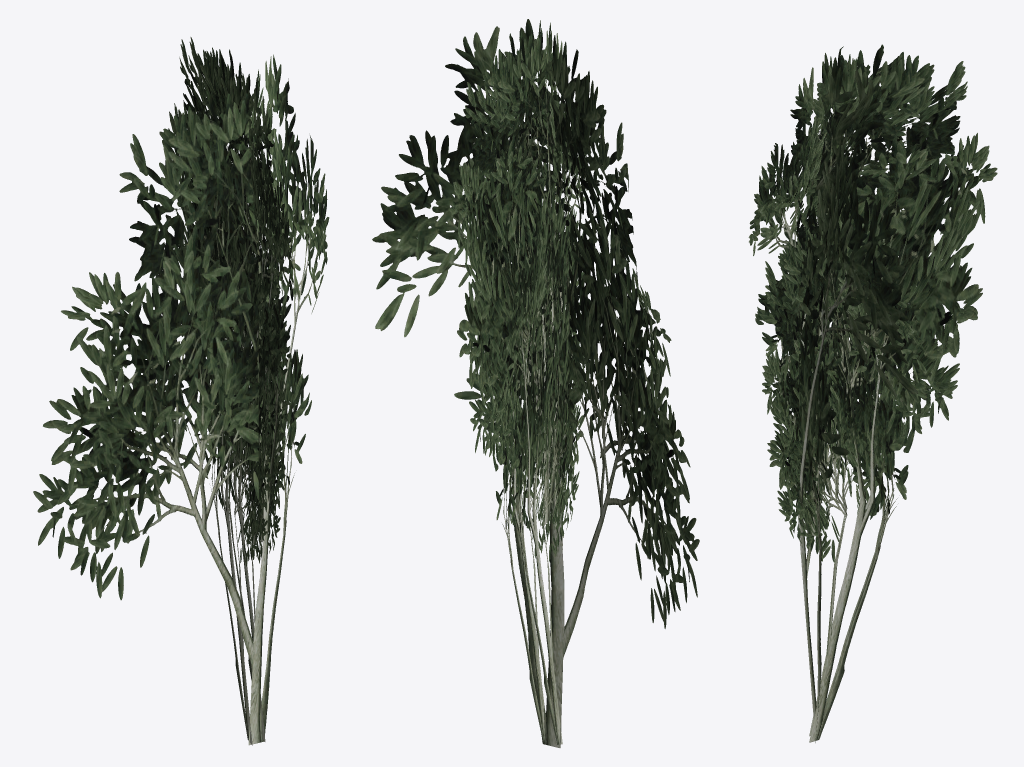
File: Plant05Plant01.FBX
3 renders of one model, left to right at view 1: azimuth 30°, elevation 25°; view 2: azimuth 150°, elevation 25°; view 3: azimuth 270°, elevation 25°, orthographic. The views are drawn at different scales.
Parts seen in each view (by area): view 1: Plant05Plant01; view 2: Plant05Plant01; view 3: Plant05Plant01.
Boxes of the visible parts, x1,y1,x2,y2 form: Plant05Plant01: (33,37,329,745); Plant05Plant01: (372,19,699,747); Plant05Plant01: (748,44,997,742).
Bounding box in the file's own units: 4 × 8.34 × 2.86.
